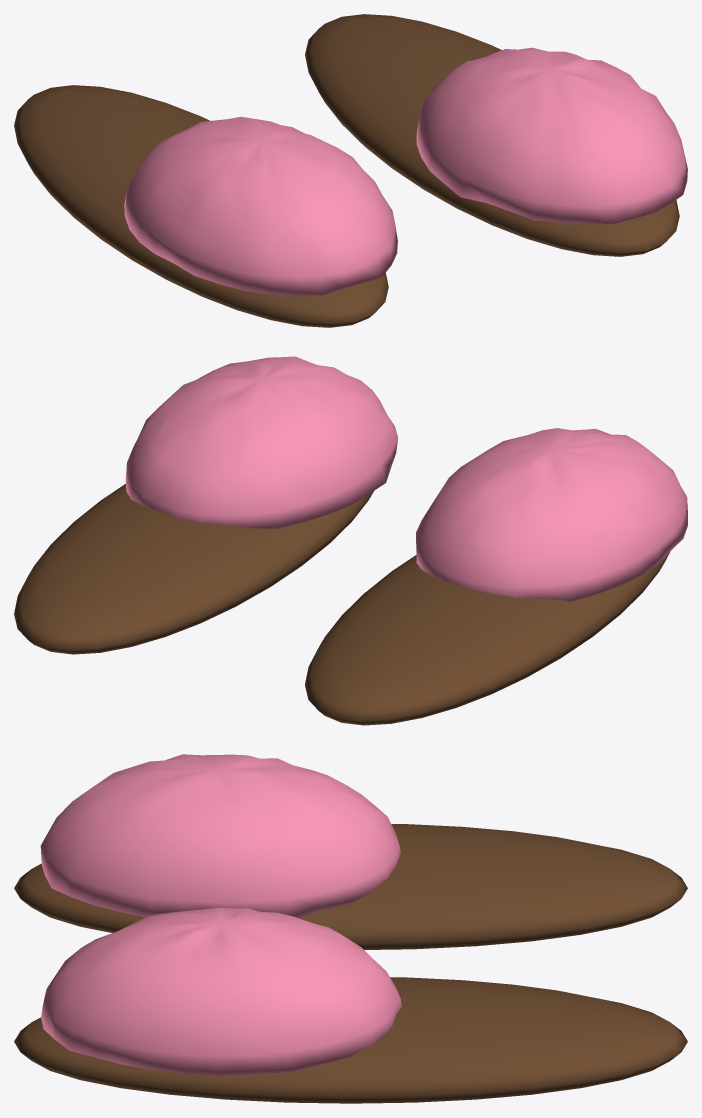
File: decor-slippers.glb
3 renders of one model, top to bottom at view 1: azimuth 30°, elevation 25°; view 2: azimuth 150°, elevation 25°; view 3: azimuth 270°, elevation 25°, orthographic. The views are drawn at different scales.
Parts seen in each view (by area): view 1: Slippers__Uppers, Slippers__Soles; view 2: Slippers__Uppers, Slippers__Soles; view 3: Slippers__Uppers, Slippers__Soles.
Part boxes in pixels (<box>): Slippers__Uppers: <box>124,47,687,295</box>; Slippers__Soles: <box>14,14,679,327</box>; Slippers__Uppers: <box>125,356,687,601</box>; Slippers__Soles: <box>14,484,670,725</box>; Slippers__Uppers: <box>40,754,401,1075</box>; Slippers__Soles: <box>14,824,687,1103</box>.
Bounding box in the file's own units: 24.38 × 5.51 × 26.
